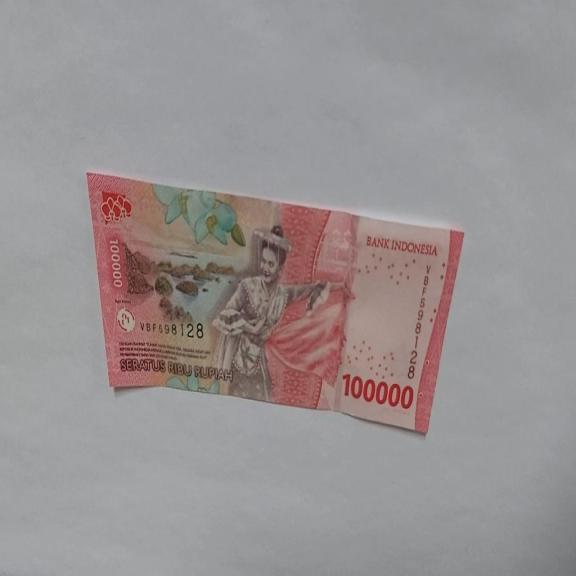Kertas: (86, 170, 465, 436), (341, 372, 414, 410)
